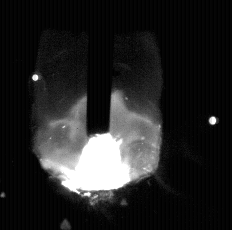arame: (87, 0, 112, 137)
poca: (32, 0, 163, 230)
